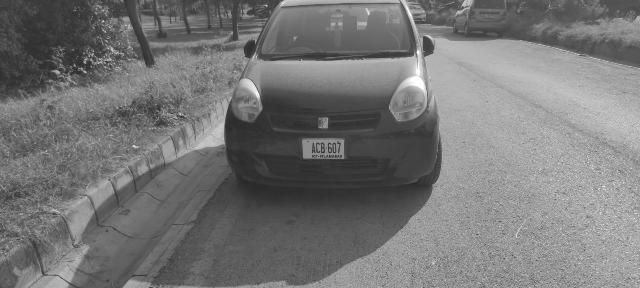Number: (311, 141, 342, 154)
